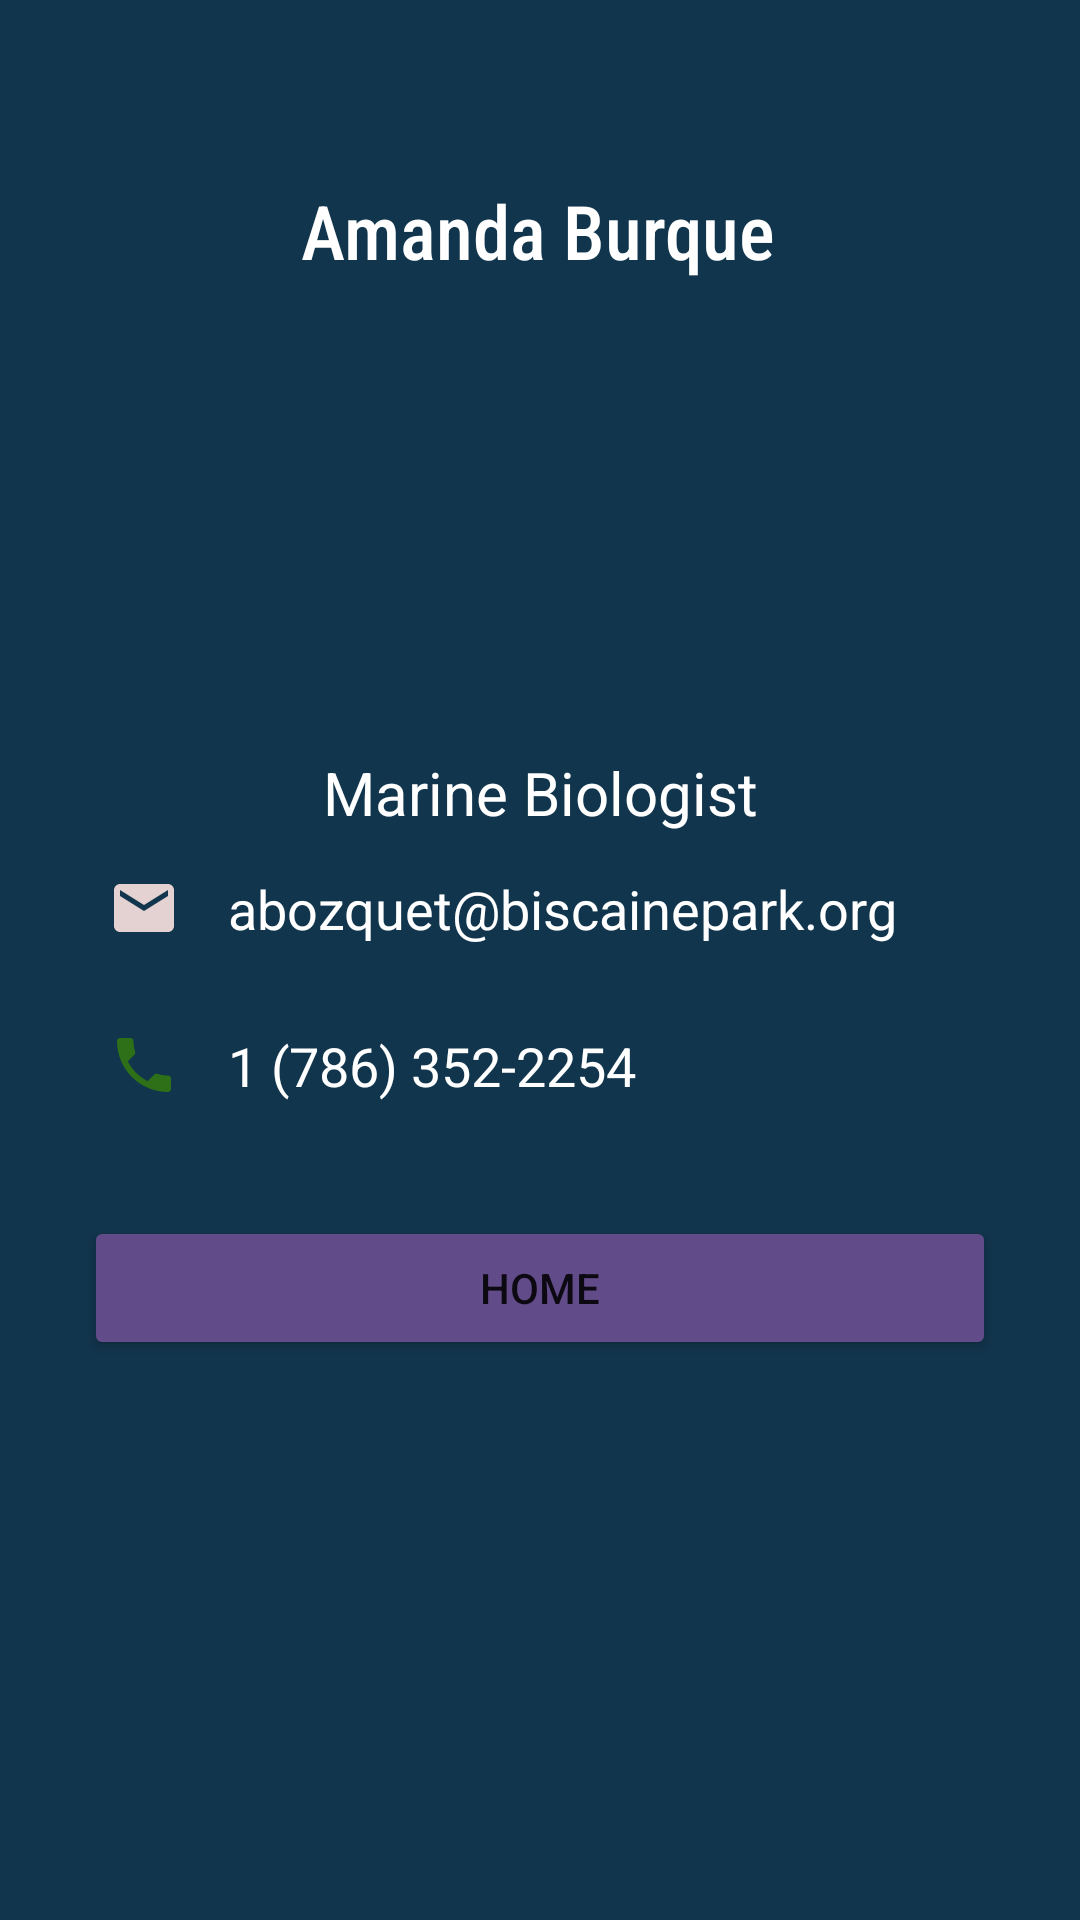

Icon click points for this 1080x1920 phone screenshot, format point (x, y):
local phone: point (144, 1065)
mail: point (144, 908)
